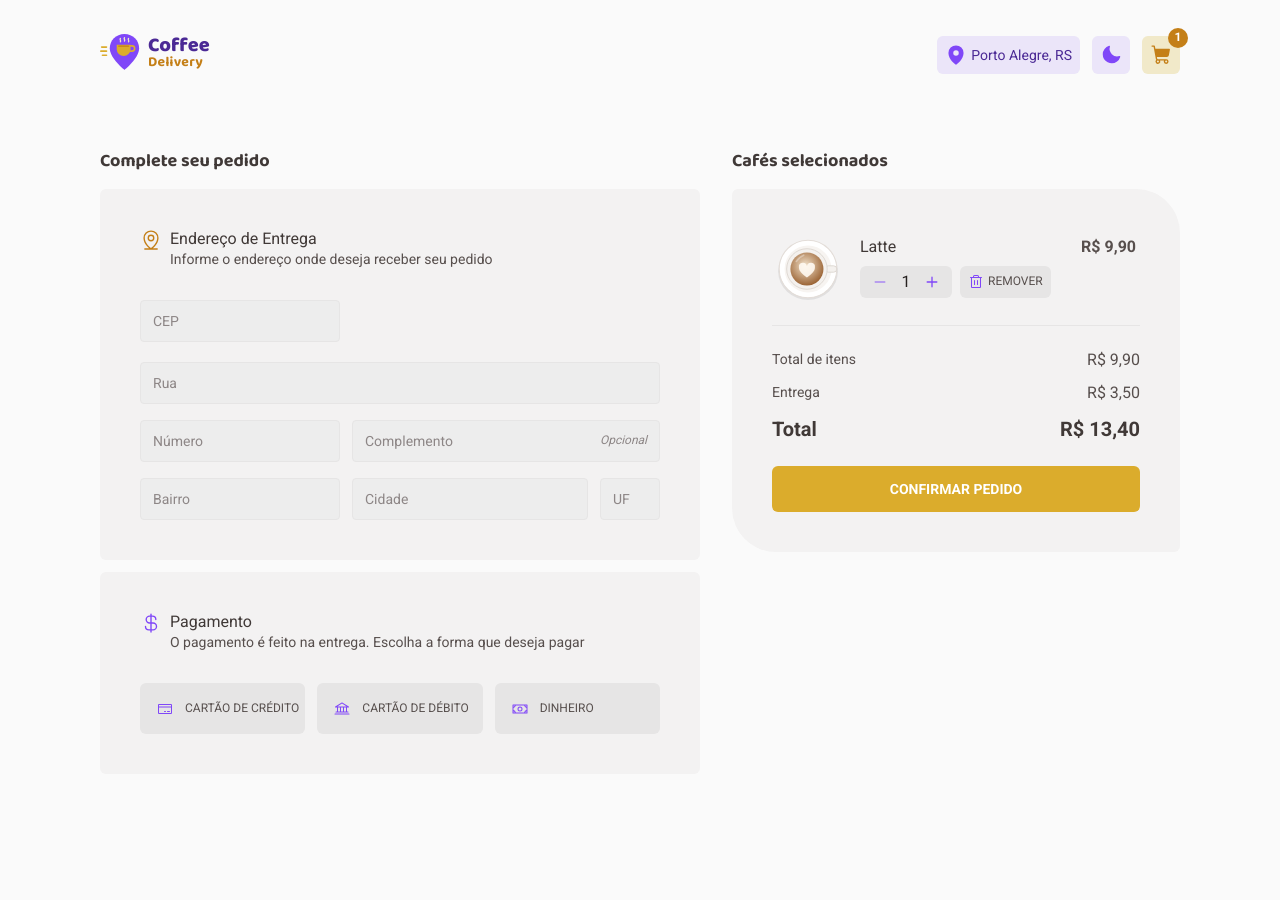
Test: Checkout › RF-11: exibe erros de validação e não confirma formulário vazio
Step 1. Click the button "Confirmar pedido" → [956, 489], box x1=772 y1=466 x2=1140 y2=512
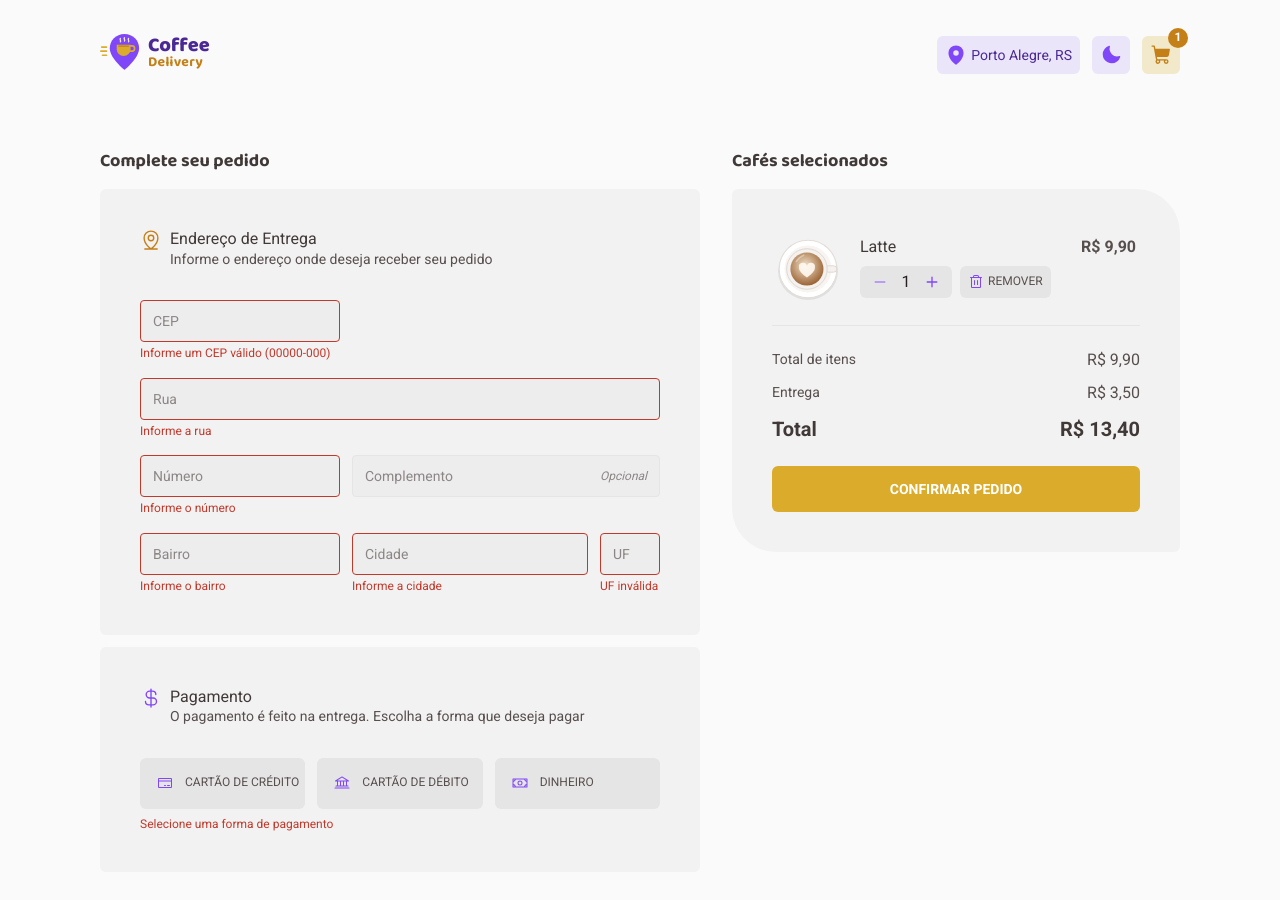
Now the text "Informe um CEP válido (00000-000)" is shown, box x1=140 y1=346 x2=340 y2=362
Now the text "Selecione uma forma de pagamento" is shown, box x1=140 y1=816 x2=333 y2=830
